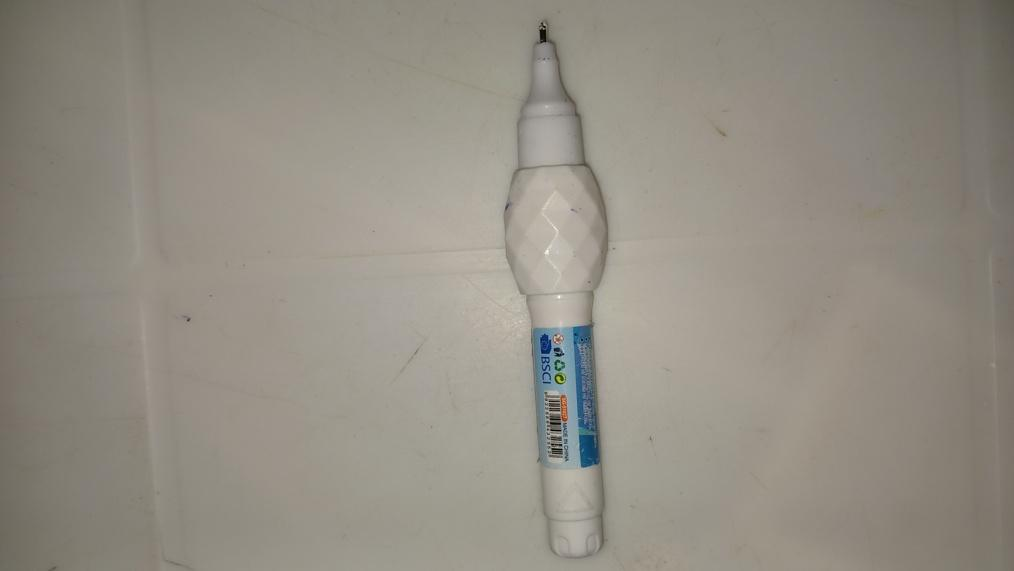Correction pen: (507, 15, 610, 561)
